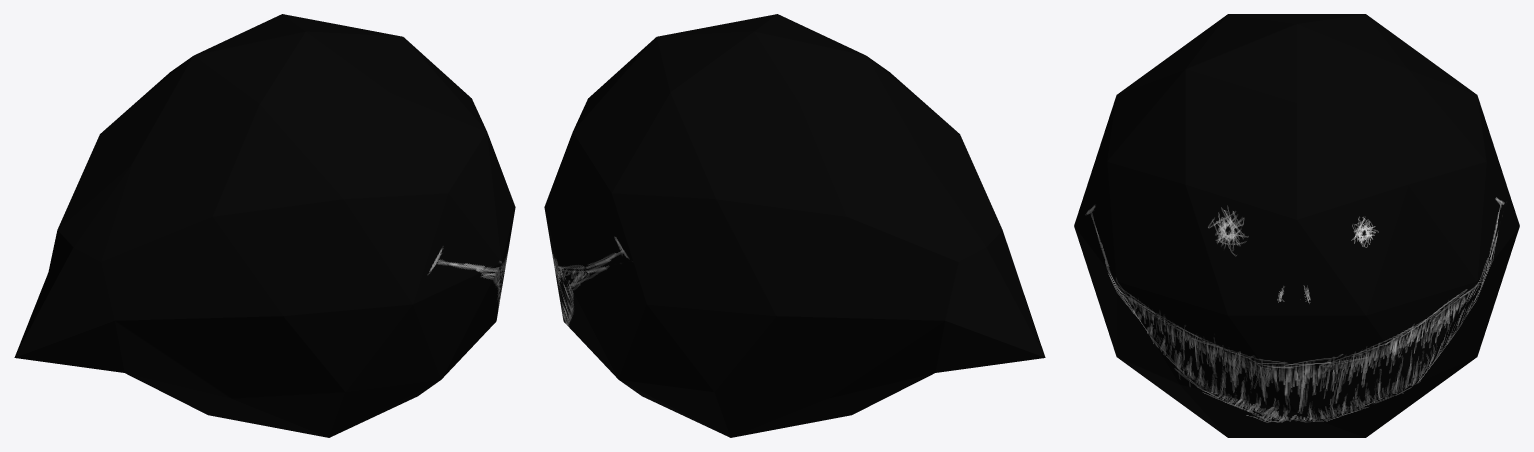
File: Scream.glb
3 views of the same model, side by side, from view 1: azimuth 30°, elevation 25°; view 2: azimuth 150°, elevation 25°; view 3: azimuth 270°, elevation 25° (orthographic). The views are drawn at different scales.
Visible parts, largest first — view 1: Icosphere; view 2: Icosphere; view 3: Icosphere.
Part boxes in pixels (box(x1,y1,x2,y2)): Icosphere: box(14, 14, 515, 437); Icosphere: box(544, 14, 1045, 437); Icosphere: box(1074, 14, 1519, 437).
Bounding box in the file's own units: 2.52 × 2 × 2.
Materials: 1 (1 with a texture image).
